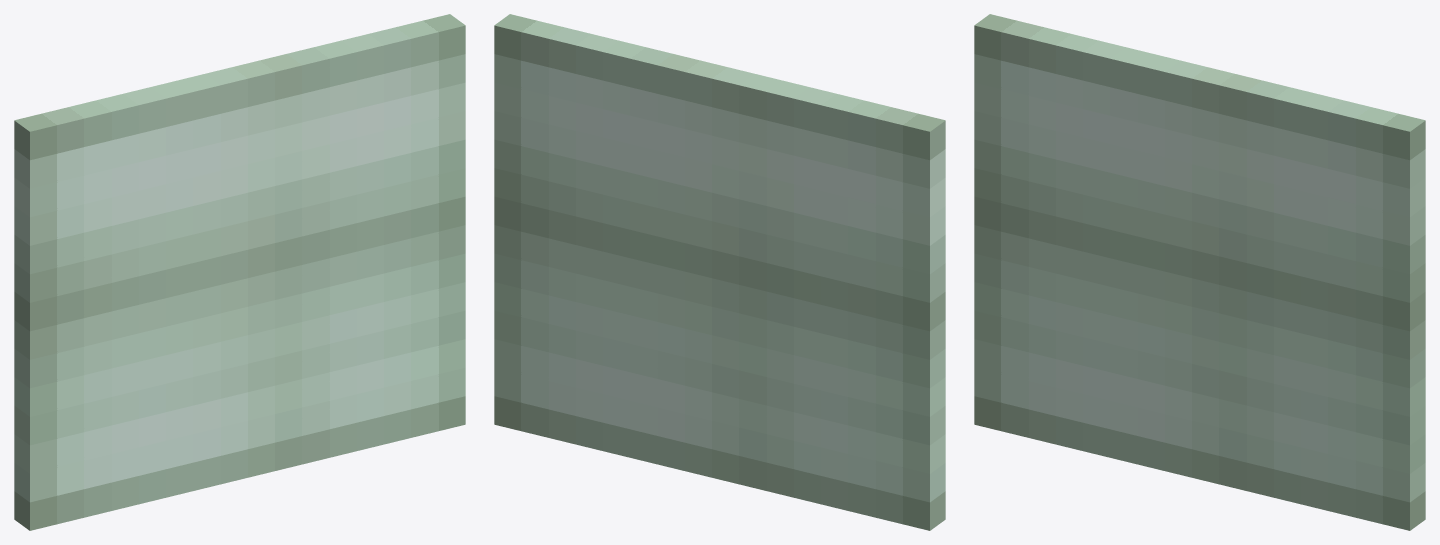
The model's file is path.glb.
The picture shows the model from 3 angles, left to right: view 1: azimuth 30°, elevation 25°; view 2: azimuth 150°, elevation 25°; view 3: azimuth 330°, elevation 25°; orthographic projection.
Visible parts, largest first — view 1: 456aacb0-e572-6196-722f-db196a85c25b_0, 8cbf2ee6-71cb-eac5-aff3-fed8b0ecbc85_1, 34399c93-47cd-adee-9b98-a17912db2139_12, 49d3c812-c5c9-cdcb-b9f7-9da2871465a1_2, 10d44041-1ce3-e29f-6512-097d98bf541e_3, 17101fe6-014d-c4ae-417c-f3ce26bbd07f_4, 613acb9d-6d14-2b3b-257c-6023d0437640_13, b703e800-a7c9-0876-135c-a55aedd469a0_5, 6bfcb5c8-d177-595b-dd60-e258fa2b2ffa_6, f70dff53-c35e-6541-14a0-7497840dcaeb_7, c709b764-5eee-5f9c-1f6e-063bc892ad59_9, 611cf8bf-ccae-9f82-805f-ce30202e1f6a_10 (+2 smaller); view 2: 456aacb0-e572-6196-722f-db196a85c25b_0, 8cbf2ee6-71cb-eac5-aff3-fed8b0ecbc85_1, 34399c93-47cd-adee-9b98-a17912db2139_12, 49d3c812-c5c9-cdcb-b9f7-9da2871465a1_2, 10d44041-1ce3-e29f-6512-097d98bf541e_3, 17101fe6-014d-c4ae-417c-f3ce26bbd07f_4, 613acb9d-6d14-2b3b-257c-6023d0437640_13, b703e800-a7c9-0876-135c-a55aedd469a0_5, 6bfcb5c8-d177-595b-dd60-e258fa2b2ffa_6, f70dff53-c35e-6541-14a0-7497840dcaeb_7, c709b764-5eee-5f9c-1f6e-063bc892ad59_9, 611cf8bf-ccae-9f82-805f-ce30202e1f6a_10 (+2 smaller); view 3: 456aacb0-e572-6196-722f-db196a85c25b_0, 8cbf2ee6-71cb-eac5-aff3-fed8b0ecbc85_1, 34399c93-47cd-adee-9b98-a17912db2139_12, 49d3c812-c5c9-cdcb-b9f7-9da2871465a1_2, 10d44041-1ce3-e29f-6512-097d98bf541e_3, 17101fe6-014d-c4ae-417c-f3ce26bbd07f_4, 613acb9d-6d14-2b3b-257c-6023d0437640_13, b703e800-a7c9-0876-135c-a55aedd469a0_5, 6bfcb5c8-d177-595b-dd60-e258fa2b2ffa_6, f70dff53-c35e-6541-14a0-7497840dcaeb_7, c709b764-5eee-5f9c-1f6e-063bc892ad59_9, 611cf8bf-ccae-9f82-805f-ce30202e1f6a_10 (+2 smaller).
Part boxes in pixels (x1=…): 456aacb0-e572-6196-722f-db196a85c25b_0: x1=14, y1=14, x2=465, y2=160; 8cbf2ee6-71cb-eac5-aff3-fed8b0ecbc85_1: x1=14, y1=54, x2=465, y2=188; 34399c93-47cd-adee-9b98-a17912db2139_12: x1=14, y1=367, x2=465, y2=502; 49d3c812-c5c9-cdcb-b9f7-9da2871465a1_2: x1=14, y1=82, x2=465, y2=217; 10d44041-1ce3-e29f-6512-097d98bf541e_3: x1=14, y1=111, x2=465, y2=245; 17101fe6-014d-c4ae-417c-f3ce26bbd07f_4: x1=14, y1=139, x2=465, y2=274; 613acb9d-6d14-2b3b-257c-6023d0437640_13: x1=14, y1=396, x2=465, y2=530; b703e800-a7c9-0876-135c-a55aedd469a0_5: x1=14, y1=168, x2=465, y2=302; 6bfcb5c8-d177-595b-dd60-e258fa2b2ffa_6: x1=14, y1=196, x2=465, y2=331; f70dff53-c35e-6541-14a0-7497840dcaeb_7: x1=14, y1=225, x2=465, y2=359; c709b764-5eee-5f9c-1f6e-063bc892ad59_9: x1=14, y1=282, x2=465, y2=416; 611cf8bf-ccae-9f82-805f-ce30202e1f6a_10: x1=14, y1=310, x2=465, y2=445; 456aacb0-e572-6196-722f-db196a85c25b_0: x1=494, y1=14, x2=945, y2=160; 8cbf2ee6-71cb-eac5-aff3-fed8b0ecbc85_1: x1=494, y1=54, x2=945, y2=188; 34399c93-47cd-adee-9b98-a17912db2139_12: x1=494, y1=367, x2=945, y2=502; 49d3c812-c5c9-cdcb-b9f7-9da2871465a1_2: x1=494, y1=82, x2=945, y2=217; 10d44041-1ce3-e29f-6512-097d98bf541e_3: x1=494, y1=111, x2=945, y2=245; 17101fe6-014d-c4ae-417c-f3ce26bbd07f_4: x1=494, y1=139, x2=945, y2=274; 613acb9d-6d14-2b3b-257c-6023d0437640_13: x1=494, y1=396, x2=945, y2=530; b703e800-a7c9-0876-135c-a55aedd469a0_5: x1=494, y1=168, x2=945, y2=302; 6bfcb5c8-d177-595b-dd60-e258fa2b2ffa_6: x1=494, y1=196, x2=945, y2=331; f70dff53-c35e-6541-14a0-7497840dcaeb_7: x1=494, y1=225, x2=945, y2=359; c709b764-5eee-5f9c-1f6e-063bc892ad59_9: x1=494, y1=282, x2=945, y2=416; 611cf8bf-ccae-9f82-805f-ce30202e1f6a_10: x1=494, y1=310, x2=945, y2=445; 456aacb0-e572-6196-722f-db196a85c25b_0: x1=974, y1=14, x2=1425, y2=160; 8cbf2ee6-71cb-eac5-aff3-fed8b0ecbc85_1: x1=974, y1=54, x2=1425, y2=188; 34399c93-47cd-adee-9b98-a17912db2139_12: x1=974, y1=367, x2=1425, y2=502; 49d3c812-c5c9-cdcb-b9f7-9da2871465a1_2: x1=974, y1=82, x2=1425, y2=217; 10d44041-1ce3-e29f-6512-097d98bf541e_3: x1=974, y1=111, x2=1425, y2=245; 17101fe6-014d-c4ae-417c-f3ce26bbd07f_4: x1=974, y1=139, x2=1425, y2=274; 613acb9d-6d14-2b3b-257c-6023d0437640_13: x1=974, y1=396, x2=1425, y2=530; b703e800-a7c9-0876-135c-a55aedd469a0_5: x1=974, y1=168, x2=1425, y2=302; 6bfcb5c8-d177-595b-dd60-e258fa2b2ffa_6: x1=974, y1=196, x2=1425, y2=331; f70dff53-c35e-6541-14a0-7497840dcaeb_7: x1=974, y1=225, x2=1425, y2=359; c709b764-5eee-5f9c-1f6e-063bc892ad59_9: x1=974, y1=282, x2=1425, y2=416; 611cf8bf-ccae-9f82-805f-ce30202e1f6a_10: x1=974, y1=310, x2=1425, y2=445.
Size of the model in its own units: 16 by 14 by 1.
2 materials, 2 textured.
